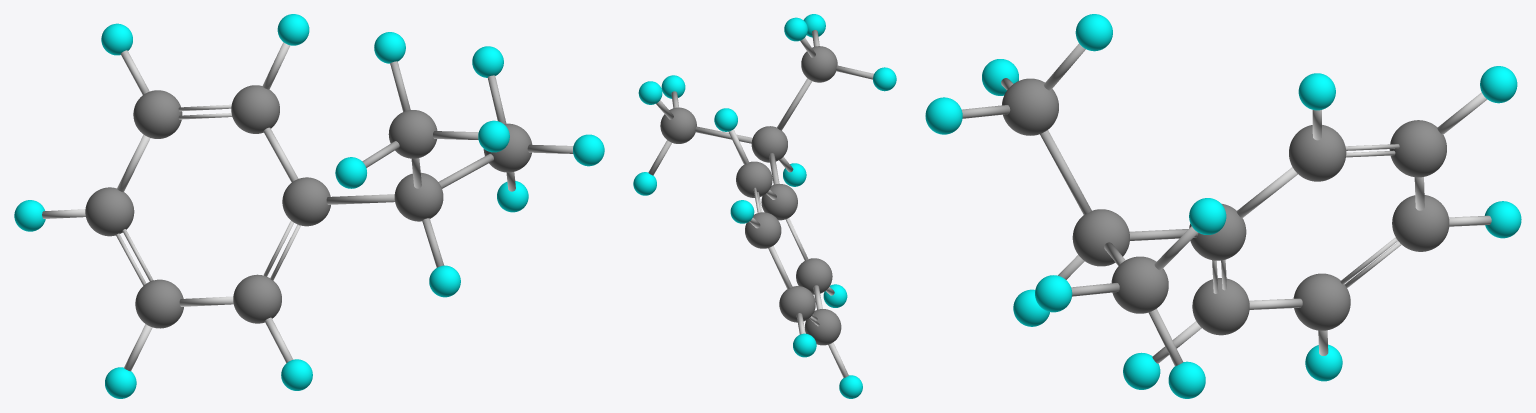
File: cumene.glb
3 views of the same model, side by side, from view 1: azimuth 30°, elevation 25°; view 2: azimuth 150°, elevation 25°; view 3: azimuth 270°, elevation 25° (orthographic). The views are drawn at different scales.
Visible parts, largest first — view 1: CMAtom_0; view 2: CMAtom_0; view 3: CMAtom_0.
Boxes of the visible parts, <box> form: CMAtom_0: <box>14,14,604,398</box>; CMAtom_0: <box>633,14,896,398</box>; CMAtom_0: <box>925,14,1521,398</box>.
Bounding box in the file's own units: 0.5741 × 0.5476 × 0.6401.
